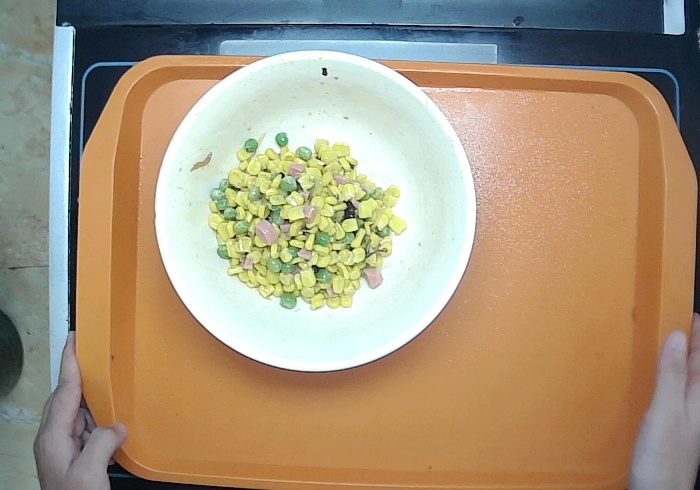ZNLD-Da_Tang_Wan: (151, 52, 476, 375)
